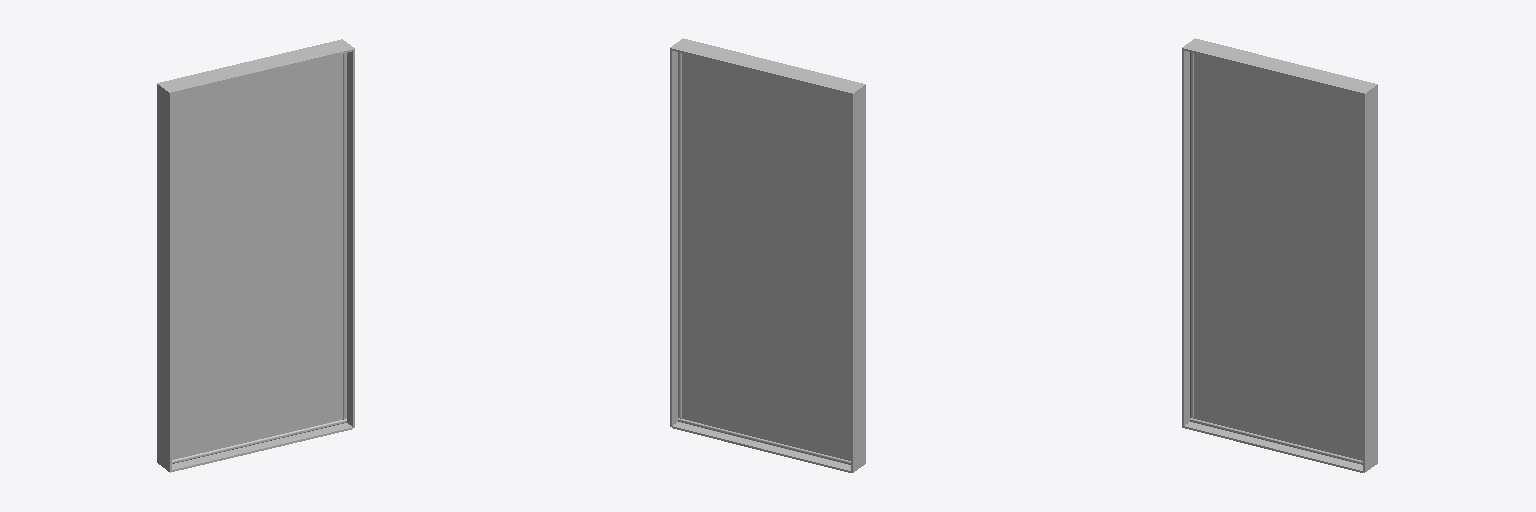
File: Ventana14.obj
3 renders of one model, left to right at view 1: azimuth 30°, elevation 25°; view 2: azimuth 150°, elevation 25°; view 3: azimuth 330°, elevation 25°, orthographic.
Parts seen in each view (by area): view 1: polySurface112; view 2: polySurface112; view 3: polySurface112.
Part boxes in pixels (left/top/right/bottom): polySurface112: left=157, top=39, right=354, bottom=472; polySurface112: left=670, top=38, right=865, bottom=472; polySurface112: left=1182, top=38, right=1377, bottom=472.
Size of the model in its own units: 1.17 by 2.3 by 0.1565.